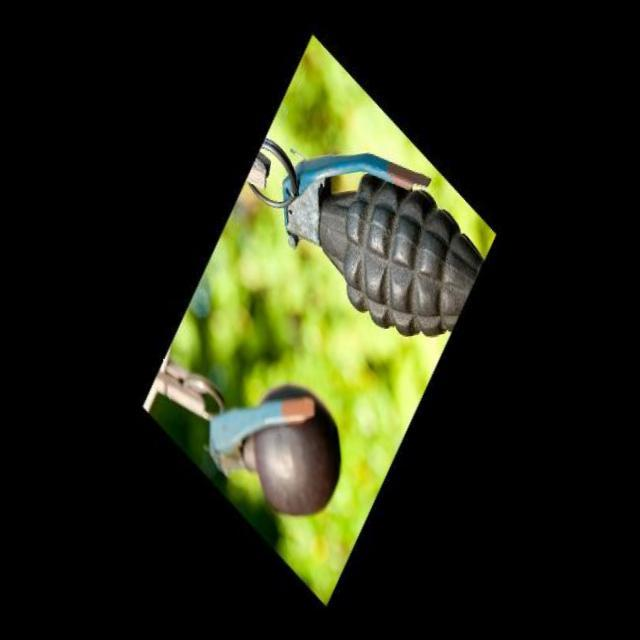grenade: (255, 120, 496, 356)
